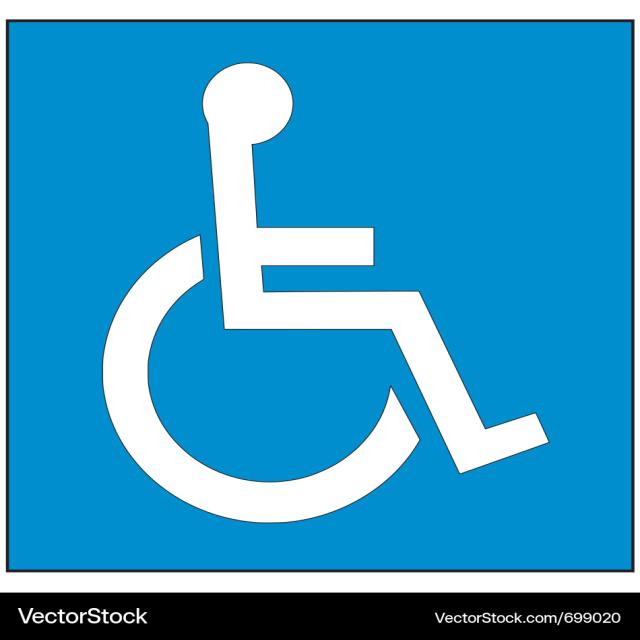symbol_of_access: (83, 53, 560, 534)
